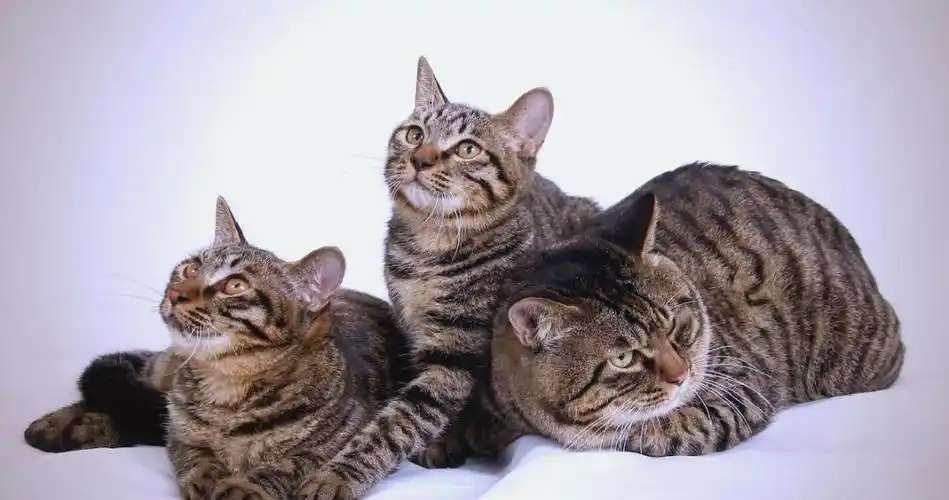狸花猫: (385, 58, 750, 468), (25, 197, 439, 499), (491, 164, 903, 455)
